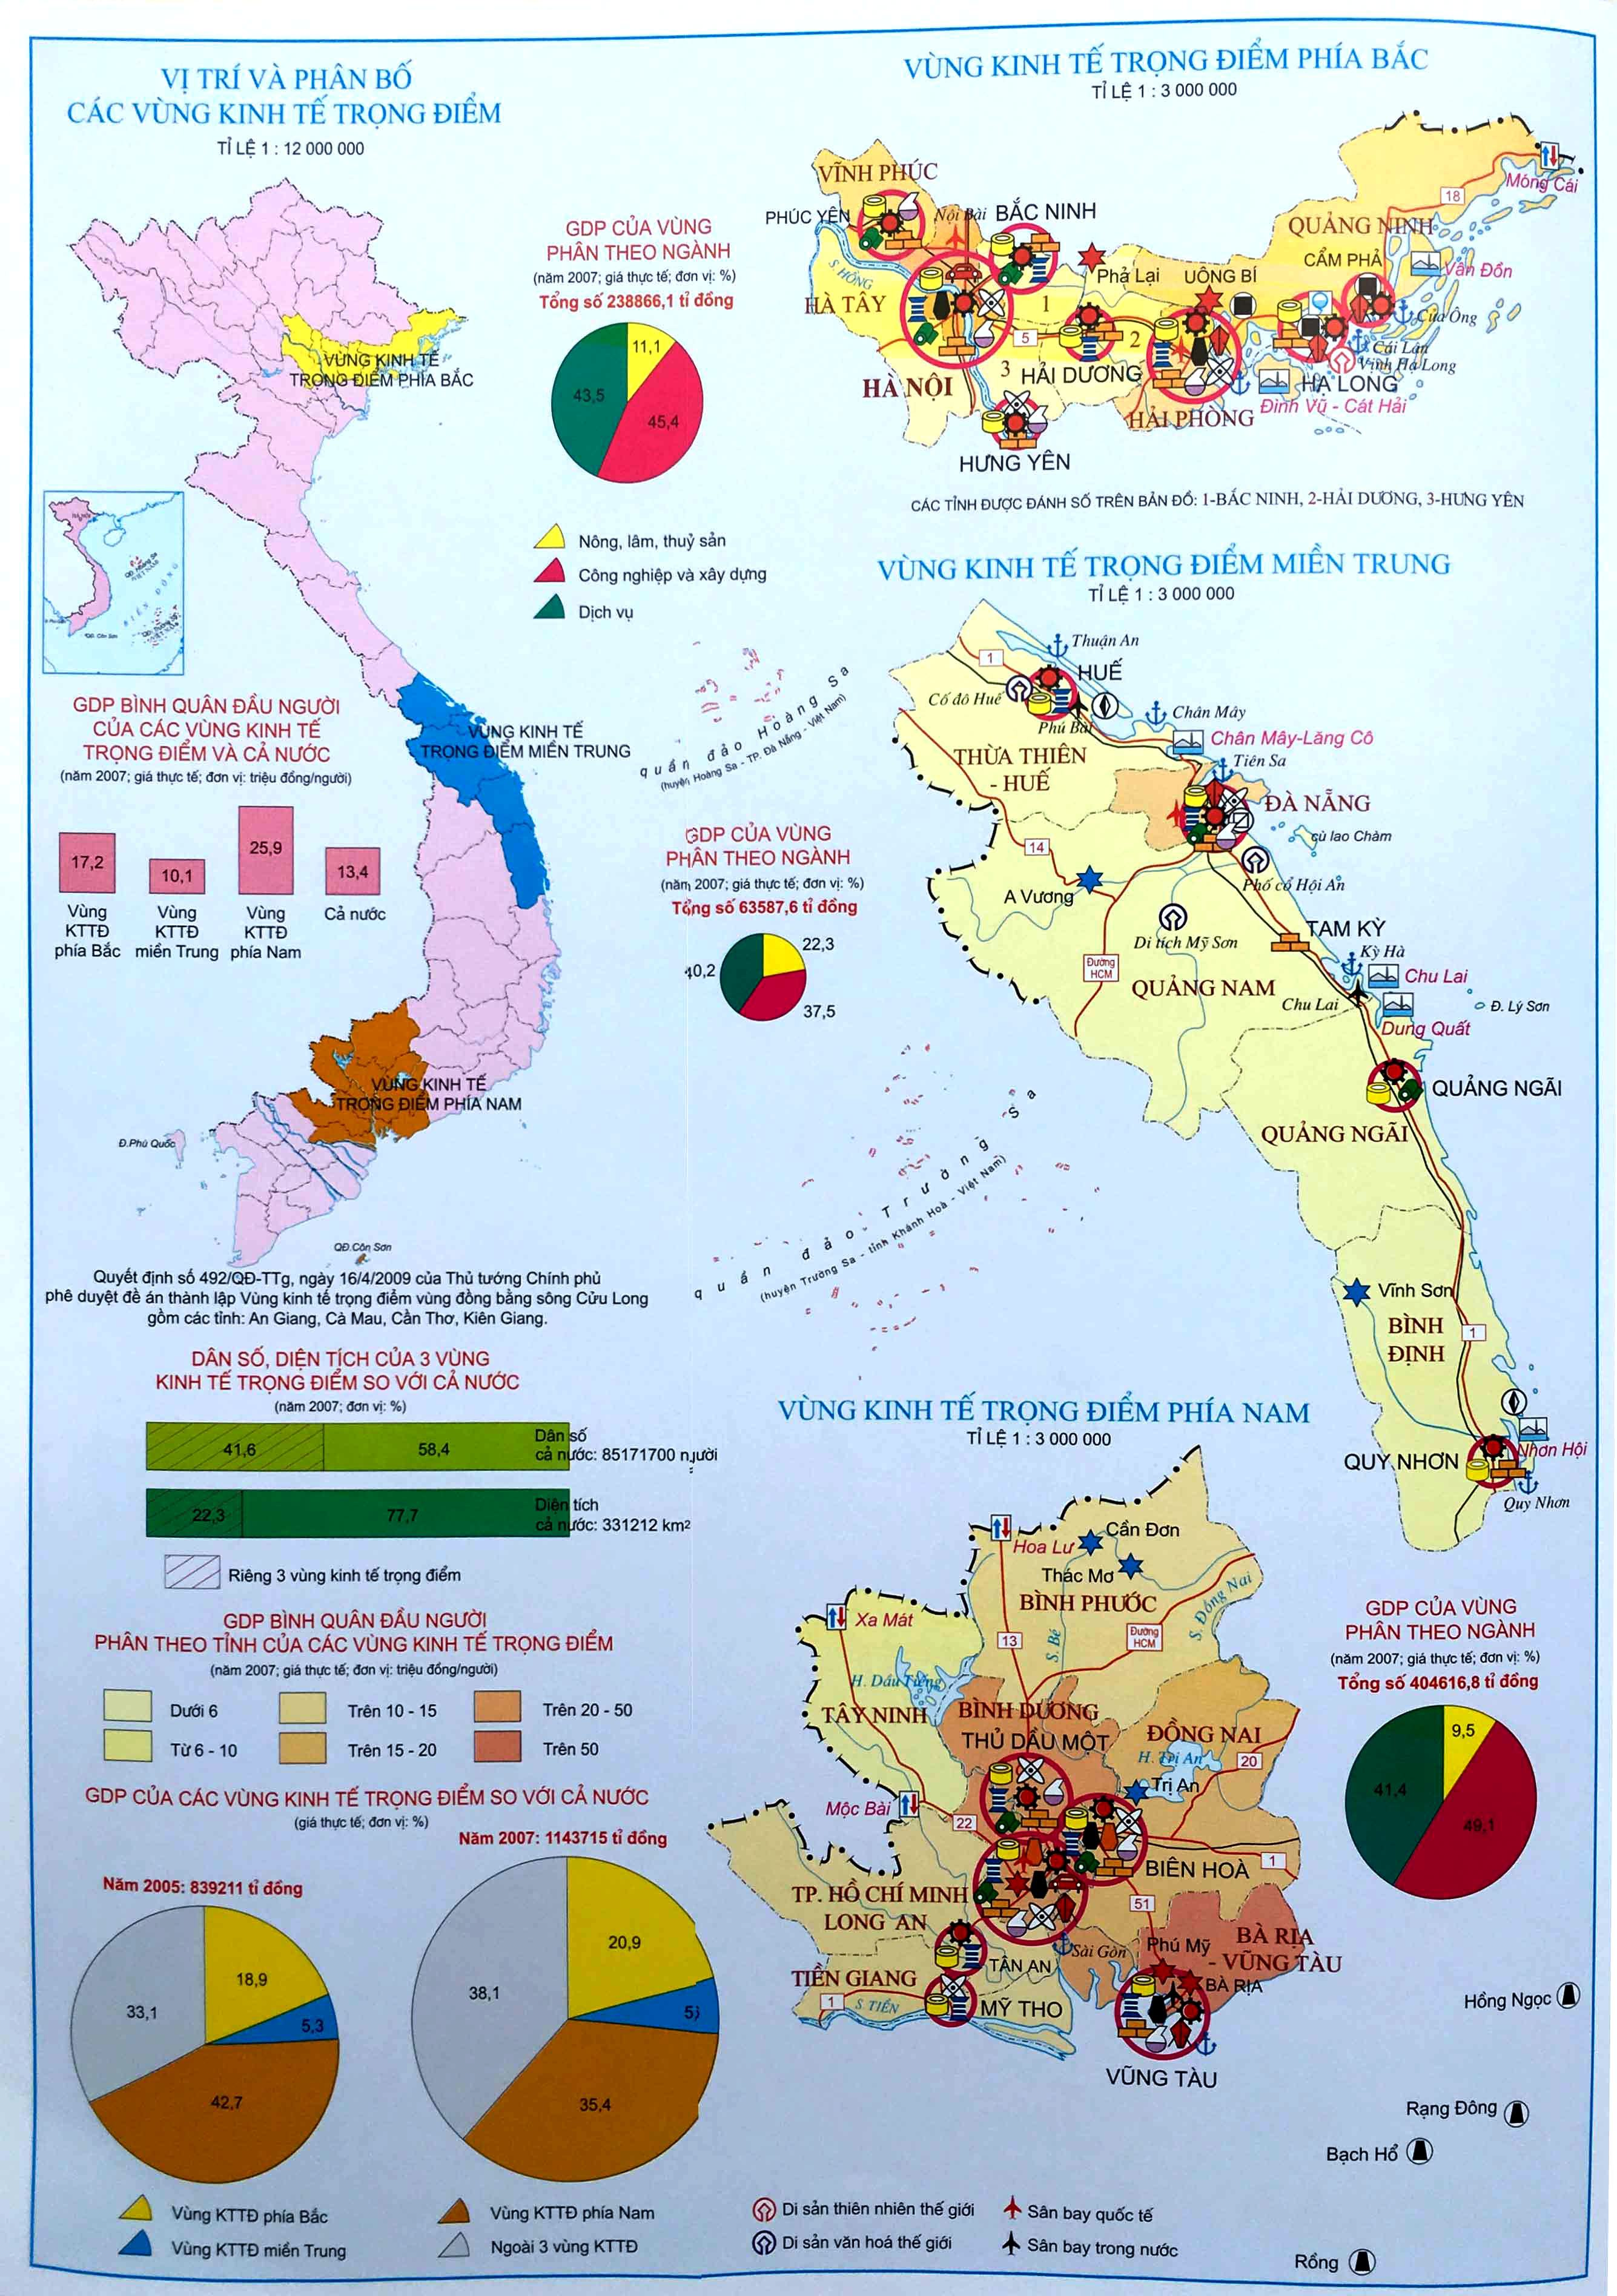Island: (702, 1069, 1094, 1325), (619, 639, 868, 802)
